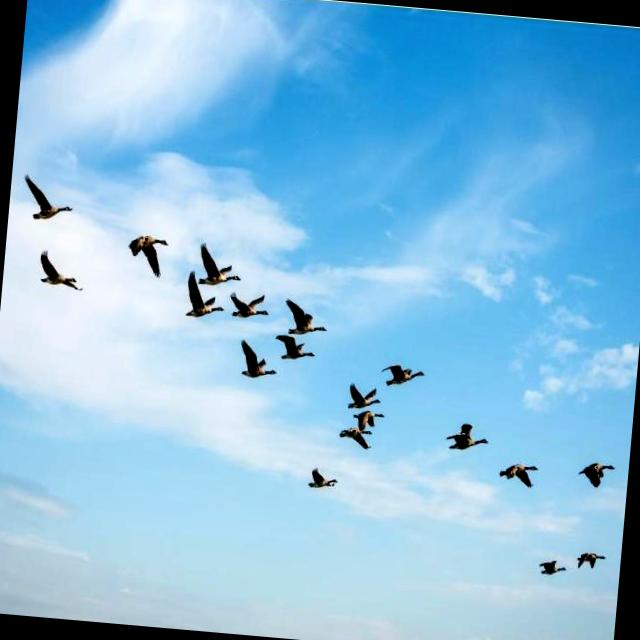bird: (29, 245, 89, 308), (17, 170, 76, 228), (280, 295, 340, 339), (122, 230, 172, 282), (434, 414, 489, 460), (194, 242, 246, 290), (231, 336, 278, 388), (181, 279, 226, 333), (570, 453, 621, 496), (492, 456, 544, 495), (272, 331, 319, 372), (380, 355, 429, 394), (226, 289, 274, 324), (298, 464, 340, 499), (572, 542, 612, 577), (352, 408, 400, 436), (344, 383, 386, 411), (535, 552, 571, 584), (336, 426, 374, 449)
